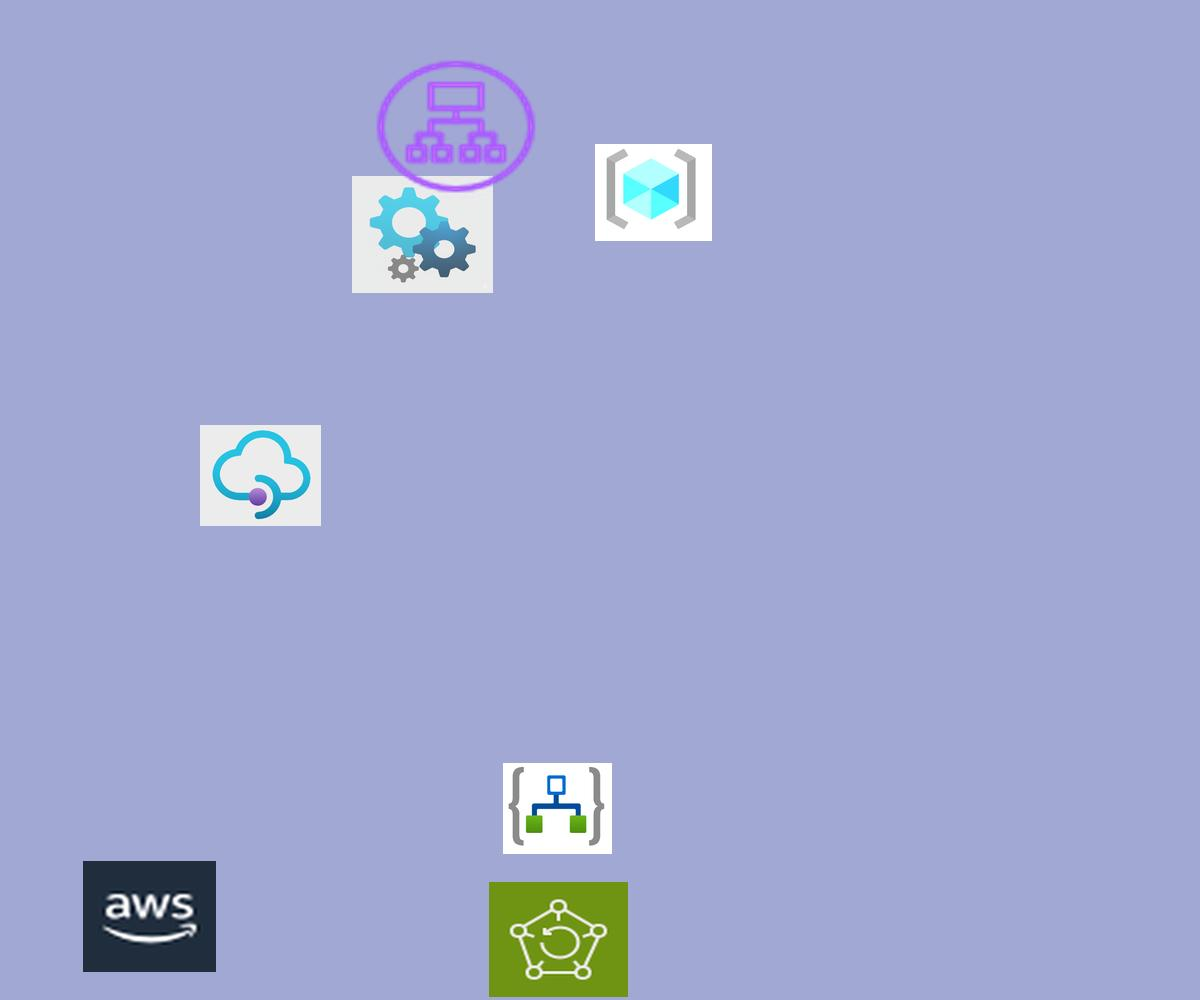AWS-Backup: (489, 882, 628, 997)
AWS-Cloud-logo: (83, 861, 216, 972)
AWS-Res_Elastic-Load-Balancing_Application-Load-Balancer: (370, 55, 542, 198)
Azure_api: (352, 176, 493, 293)
Azure_api_gateway: (200, 425, 321, 526)
Azure_integration-204-Logic-Apps: (503, 763, 612, 854)
Azure_resource_group: (595, 144, 712, 241)
